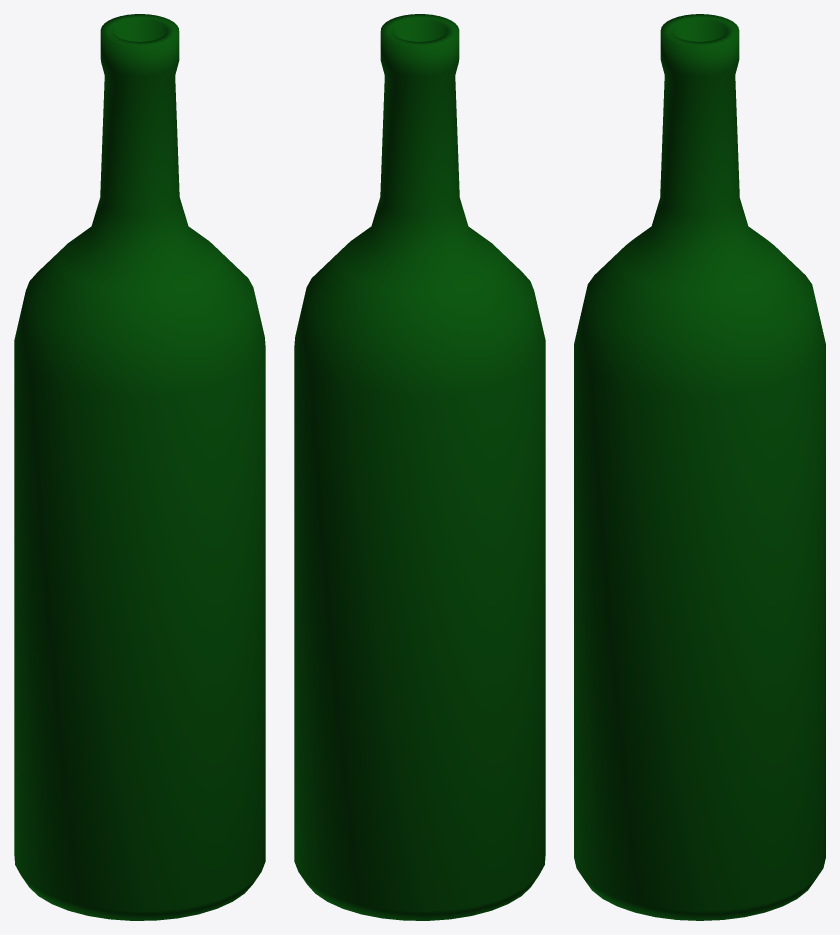
File: déchets2.fbx
3 views of the same model, side by side, from view 1: azimuth 30°, elevation 25°; view 2: azimuth 150°, elevation 25°; view 3: azimuth 270°, elevation 25° (orthographic).
Visible parts, largest first — view 1: 03 Déchet 01; view 2: 03 Déchet 01; view 3: 03 Déchet 01.
Boxes of the visible parts, x1,y1,x2,y2 form: 03 Déchet 01: [14, 14, 265, 920]; 03 Déchet 01: [294, 14, 545, 920]; 03 Déchet 01: [574, 14, 825, 920].
Bounding box in the file's own units: 2 × 7.37 × 2.
